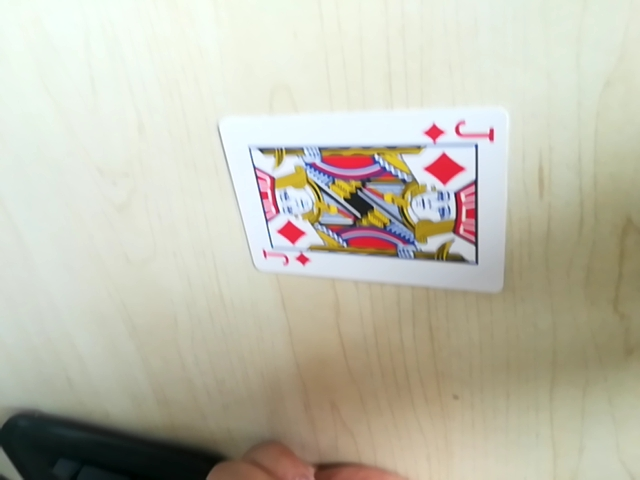fk j: (424, 113, 497, 148), (257, 246, 307, 275)
